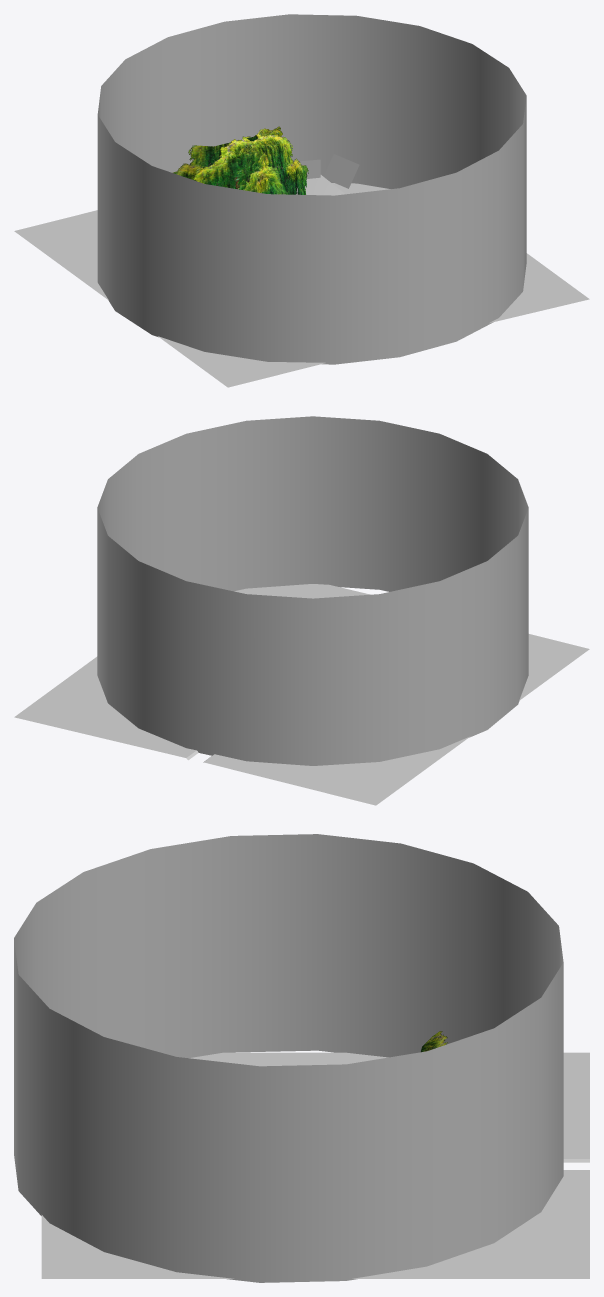
Rendered from Alley_Barnyard.fbx.
The picture shows the model from 3 angles, top to bottom: view 1: azimuth 30°, elevation 25°; view 2: azimuth 150°, elevation 25°; view 3: azimuth 270°, elevation 25°; orthographic projection. The views are drawn at different scales.
Parts seen in each view (by area): view 1: Background1, Ground, Leaves1, Leaves2, Building4, SHill1; view 2: Background1, Ground; view 3: Background1, Ground.
Part boxes in pixels (<box>): Background1: <box>97,14,526,364</box>; Ground: <box>14,183,589,387</box>; Leaves1: <box>193,129,308,194</box>; Leaves2: <box>172,126,282,185</box>; Building4: <box>323,154,359,188</box>; SHill1: <box>296,175,344,195</box>; Background1: <box>97,416,528,765</box>; Ground: <box>14,584,589,805</box>; Background1: <box>14,834,563,1282</box>; Ground: <box>41,1052,589,1278</box>.
Bounding box in the file's own units: 556250 × 249398 × 582996.
